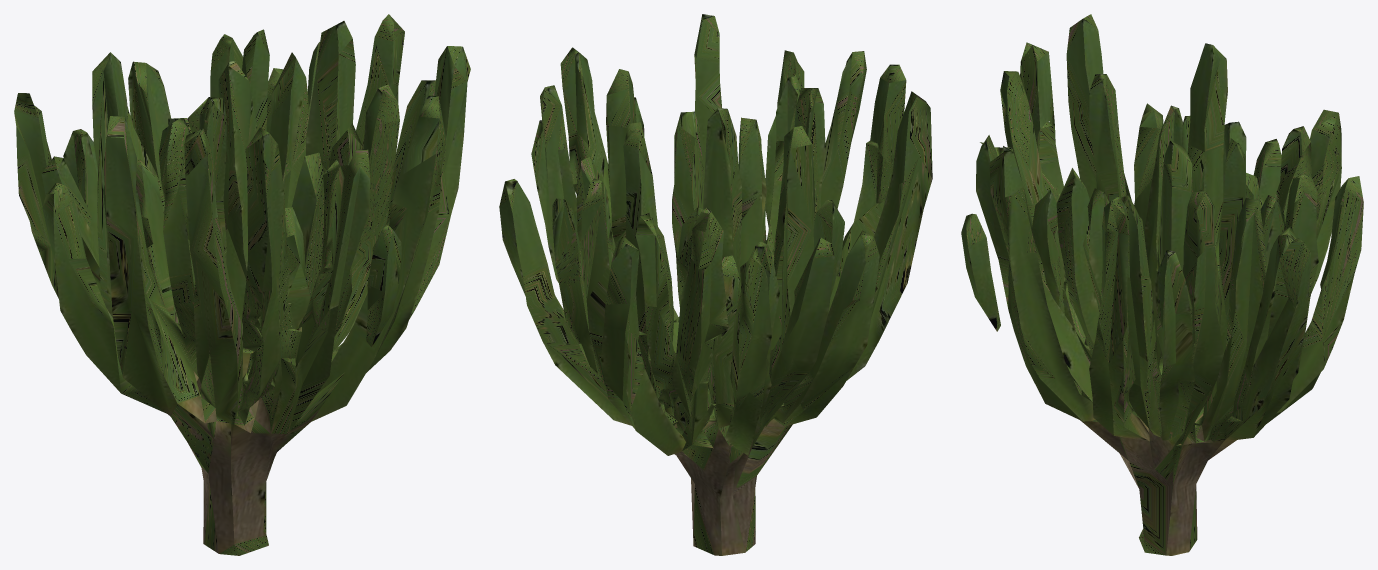
Rendered from 22_euphorbia_candelabra_tree.glb.
3 renders of one model, left to right at view 1: azimuth 30°, elevation 25°; view 2: azimuth 150°, elevation 25°; view 3: azimuth 270°, elevation 25°, orthographic. The views are drawn at different scales.
Parts seen in each view (by area): view 1: world; view 2: world; view 3: world.
Part boxes in pixels (bbox=[...]): world: bbox=[14, 14, 470, 555]; world: bbox=[499, 14, 932, 555]; world: bbox=[961, 14, 1363, 555].
Bounding box in the file's own units: 0.8009 × 0.9957 × 0.7994.
1 material, 1 textured.
